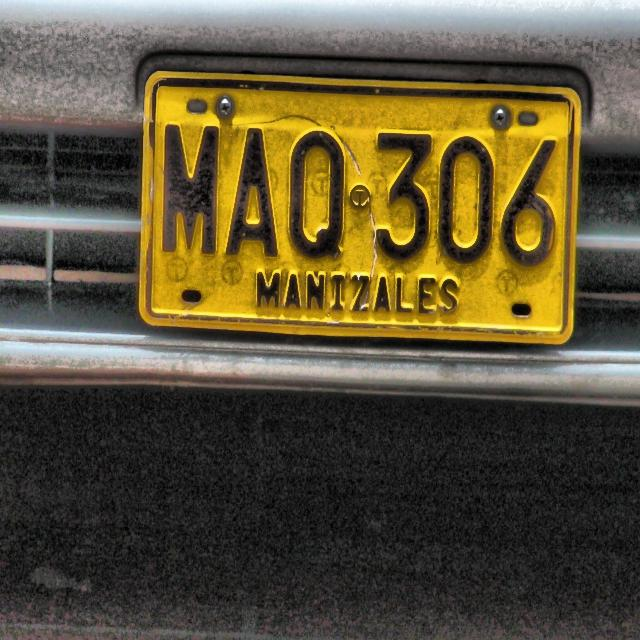plate: (144, 73, 576, 340)
